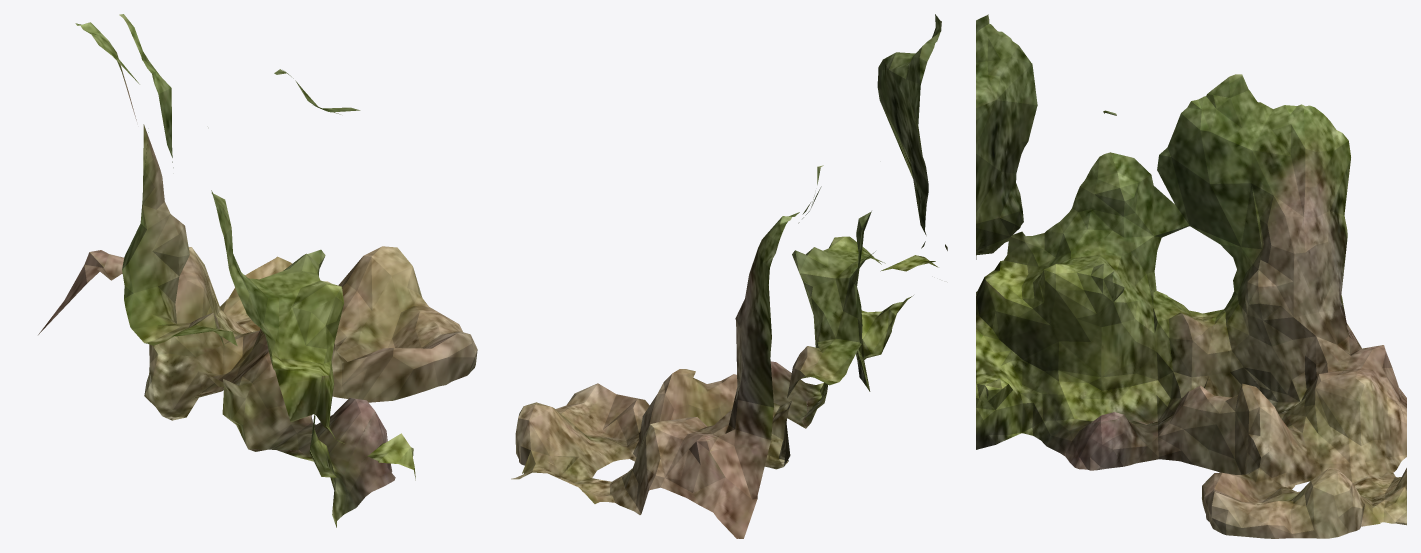
3 views of the same model, side by side, from view 1: azimuth 30°, elevation 25°; view 2: azimuth 150°, elevation 25°; view 3: azimuth 270°, elevation 25° (orthographic). The views are drawn at different scales.
Size of the model in its own units: 2.18 by 2.95 by 2.95.
3 materials, 3 textured.
